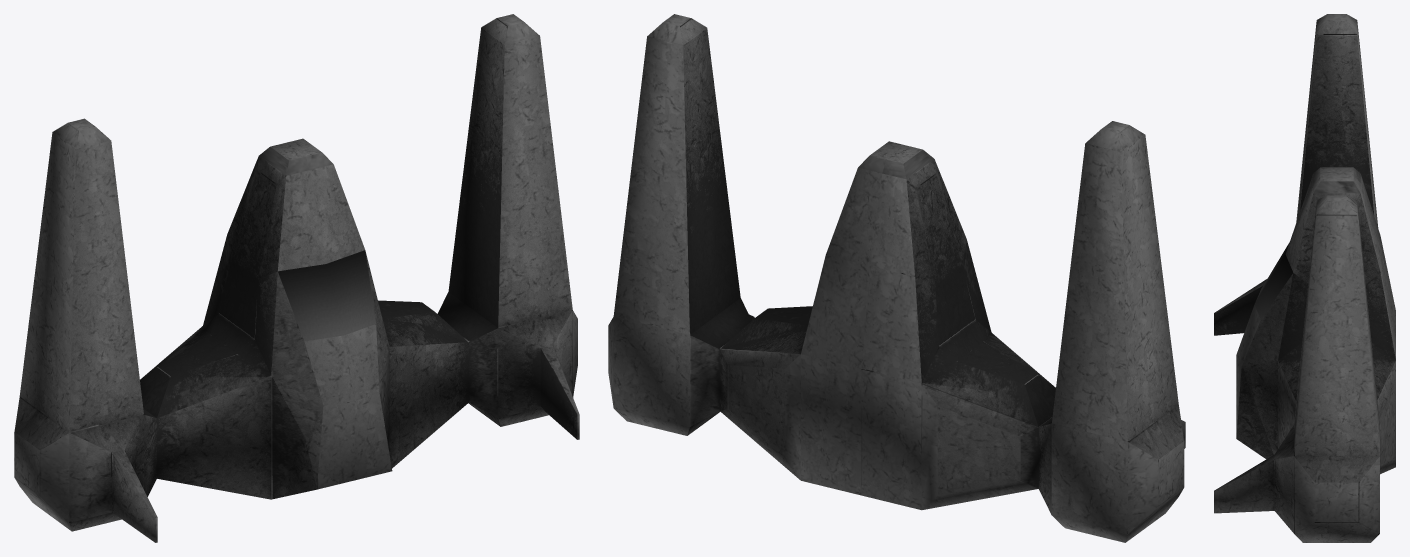
Rendered from VoidShip.fbx.
3 renders of one model, left to right at view 1: azimuth 30°, elevation 25°; view 2: azimuth 150°, elevation 25°; view 3: azimuth 270°, elevation 25°, orthographic. The views are drawn at different scales.
Visible parts, largest first — view 1: Cube; view 2: Cube; view 3: Cube.
Part boxes in pixels (x1,y1,x2,y2): Cube: (14,14,579,542); Cube: (608,14,1185,542); Cube: (1214,14,1395,542).
Bounding box in the file's own units: 9.1 × 6.26 × 3.09.
